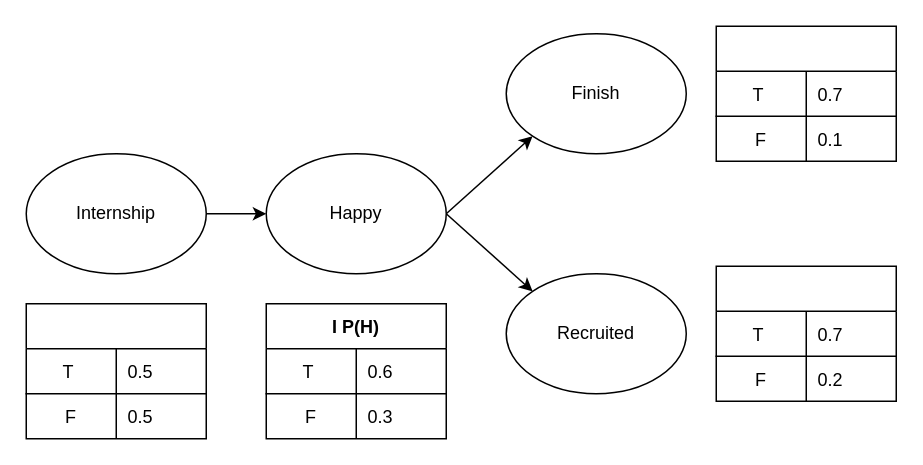
Some shapes in this 923 by 465 pixel diagram are drawn without their labels. Here are the shapes that lost their labels. From the top down, the box of each, then its label:
(715, 25, 896, 161): H P(F)
(715, 265, 896, 401): H P(R)
(25, 302, 206, 439): Internship P(I)
